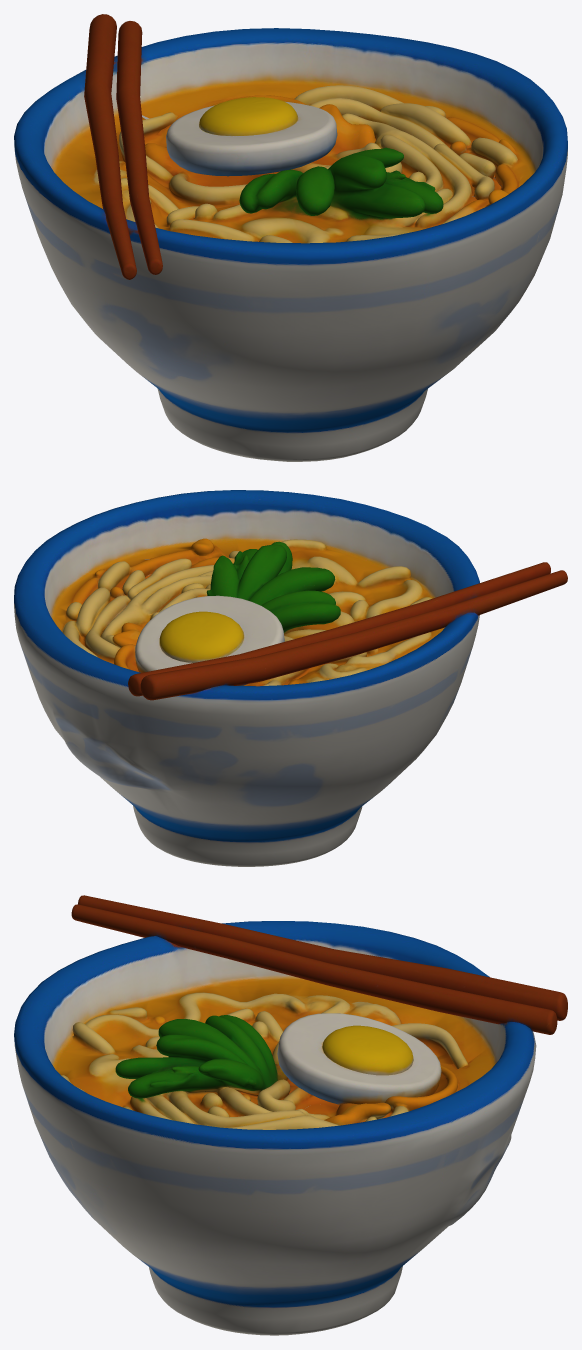
The model's file is ramen-4.glb.
3 renders of one model, top to bottom at view 1: azimuth 30°, elevation 25°; view 2: azimuth 150°, elevation 25°; view 3: azimuth 270°, elevation 25°, orthographic. The views are drawn at different scales.
Visible parts, largest first — view 1: tripo_node_3823bd52-29ed-4901-bea5-70f09bde48a6; view 2: tripo_node_3823bd52-29ed-4901-bea5-70f09bde48a6; view 3: tripo_node_3823bd52-29ed-4901-bea5-70f09bde48a6.
Part boxes in pixels (x1,y1,x2,y2): tripo_node_3823bd52-29ed-4901-bea5-70f09bde48a6: [14, 14, 567, 461]; tripo_node_3823bd52-29ed-4901-bea5-70f09bde48a6: [14, 490, 567, 866]; tripo_node_3823bd52-29ed-4901-bea5-70f09bde48a6: [14, 895, 567, 1335].
Bounding box in the file's own units: 0.9995 × 0.5493 × 0.9995.
1 material, 1 textured.
